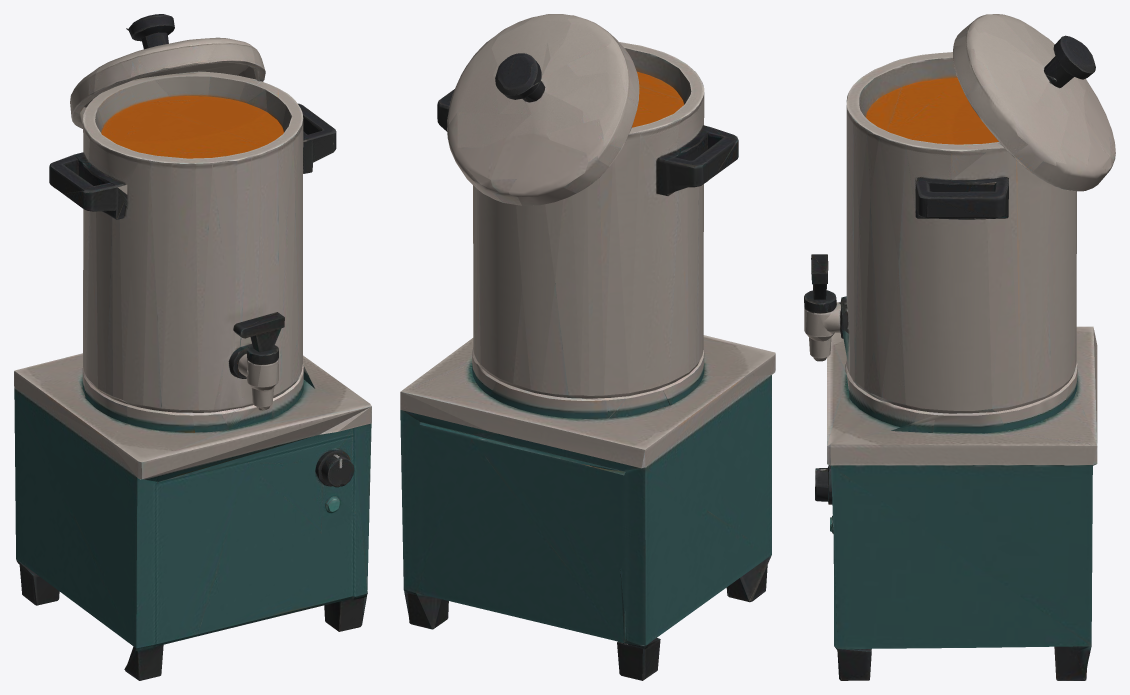
Rendered from teaUrn.glb.
3 views of the same model, side by side, from view 1: azimuth 30°, elevation 25°; view 2: azimuth 150°, elevation 25°; view 3: azimuth 270°, elevation 25° (orthographic). The views are drawn at different scales.
Visible parts, largest first — view 1: Mesh_0; view 2: Mesh_0; view 3: Mesh_0.
Boxes of the visible parts, x1,y1,x2,y2 form: Mesh_0: [14, 14, 371, 680]; Mesh_0: [400, 14, 775, 680]; Mesh_0: [804, 14, 1115, 680].
Bounding box in the file's own units: 0.2573 × 0.55 × 0.2599.
1 material, 1 textured.
